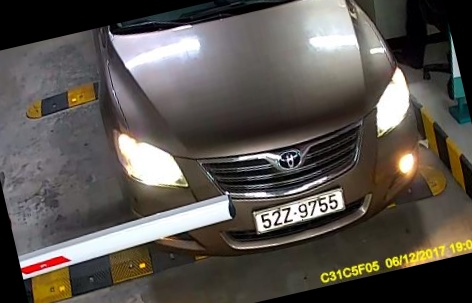plate: (235, 181, 351, 236)
